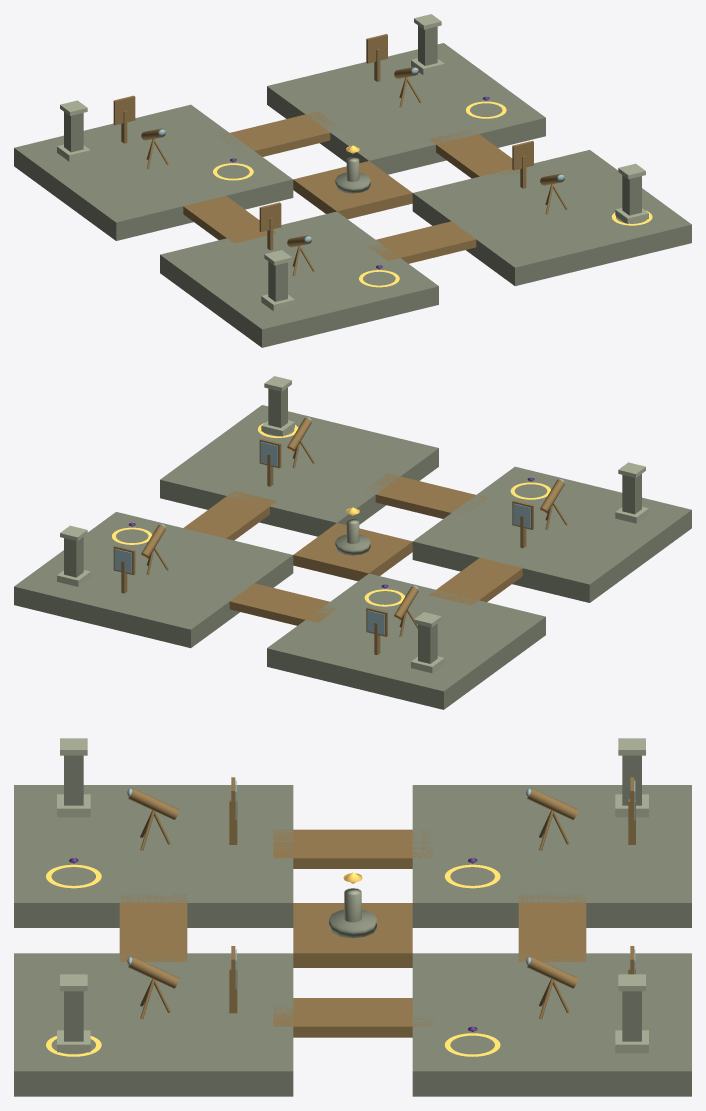
File: observatory_corrupted.glb
3 views of the same model, one above another, from view 1: azimuth 30°, elevation 25°; view 2: azimuth 150°, elevation 25°; view 3: azimuth 270°, elevation 25° (orthographic). The views are drawn at different scales.
Visible parts, largest first — view 1: floating_platform (×4), connector_x (×2), connector_z (×2), central_dome, column (×4), rim (×4), base; view 2: floating_platform (×4), connector_x (×2), connector_z (×2), central_dome, column (×4), base; view 3: floating_platform (×4), connector_z (×2), connector_x (×2), central_dome, column (×4), base (×4), tube (×4), pedestal.
Part boxes in pixels (left/top/right/bottom): floating_platform (×4): left=14, top=43, right=691, bottom=347; connector_x (×2): left=218, top=111, right=476, bottom=263; connector_z (×2): left=183, top=130, right=529, bottom=243; central_dome: left=293, top=161, right=412, bottom=219; column (×4): left=64, top=25, right=641, bottom=301; rim (×4): left=113, top=34, right=533, bottom=231; base: left=335, top=172, right=370, bottom=193; floating_platform (×4): left=14, top=405, right=691, bottom=709; connector_x (×2): left=226, top=473, right=487, bottom=625; connector_z (×2): left=177, top=490, right=522, bottom=605; central_dome: left=293, top=523, right=412, bottom=581; column (×4): left=64, top=387, right=641, bottom=663; base: left=335, top=534, right=370, bottom=555; floating_platform (×4): left=14, top=785, right=691, bottom=1096; connector_z (×2): left=273, top=829, right=432, bottom=1037; connector_x (×2): left=119, top=894, right=586, bottom=961; central_dome: left=293, top=903, right=412, bottom=967; column (×4): left=64, top=755, right=641, bottom=1041; base (×4): left=57, top=794, right=648, bottom=1053; tube (×4): left=128, top=788, right=577, bottom=988; pedestal: left=344, top=888, right=361, bottom=922.
Size of the model in its own units: 17 by 2.52 by 17.
